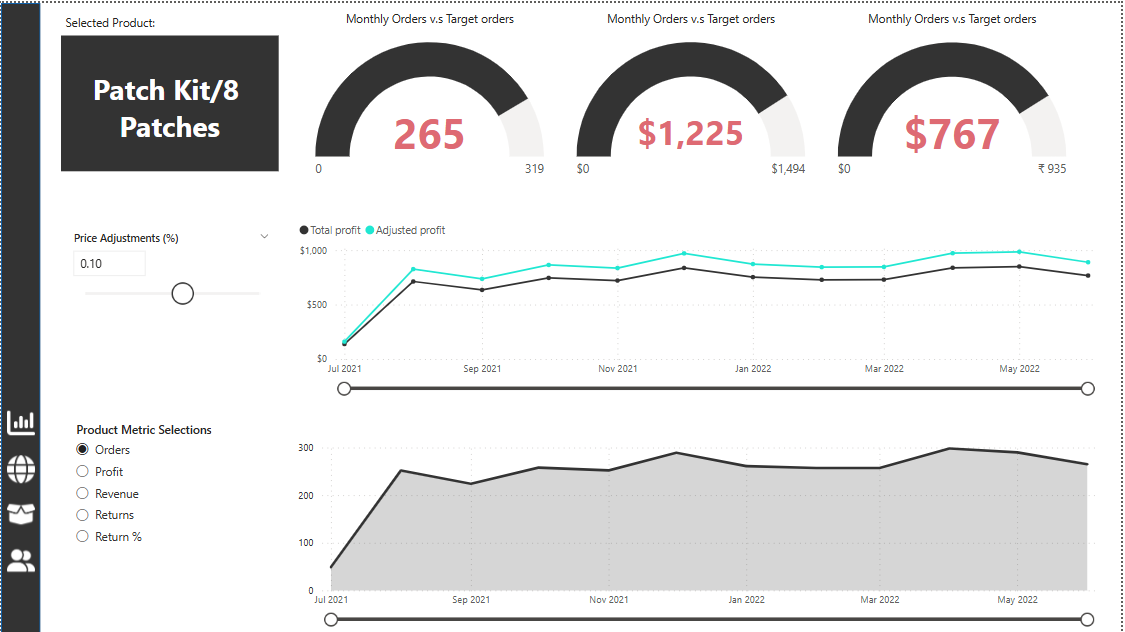

The dashboard page shown, as its layout file describes it:
{"tool":"powerbi","page":{"name":"Product detail","canvas":[1280,720],"ordinal":2},"visuals":[{"type":"shape","box":[0,0,45,720],"z":0},{"type":"gauge","title":"Monthly Orders v.s Target orders","fields":{"Y":["Measure Table.Total Orders"],"MaxValue":["Measure Table.Target orders"]},"box":[354.6,8.4,271.4,213.5],"z":1000},{"type":"gauge","title":"Monthly Orders v.s Target orders","fields":{"Y":["Measure Table.Total Revenue"],"MaxValue":["Measure Table.Target revenue"]},"box":[652.9,8.4,271.4,213.5],"z":2000},{"type":"gauge","title":"Monthly Orders v.s Target orders","fields":{"Y":["Measure Table.Total profit"],"MaxValue":["Measure Table.Profit Target"]},"box":[951.2,8.4,271.2,213.8],"z":3000},{"type":"lineChart","title":"Profit Trending","fields":{"Category":["Calendar Lookup.Date Hierarchy.Start of Year","Calendar Lookup.Date Hierarchy.Start of Month","Calendar Lookup.Date Hierarchy.Date"],"Y":["Measure Table.Total profit","Measure Table.Adjusted profit"]},"box":[335.3,240,935.9,211.1],"z":4000},{"type":"areaChart","title":"Returns Trending","fields":{"Y":["Measure Table.Total Orders"],"Category":["Calendar Lookup.Date Hierarchy.Start of Year","Calendar Lookup.Date Hierarchy.Start of Month","Calendar Lookup.Date Hierarchy.Date"]},"box":[335,493.8,936.2,221.2],"z":5000},{"type":"card","fields":{"Values":["Min(Product Lookup.ProductName)"]},"box":[68.8,37.5,248.8,155],"z":6000},{"type":"textbox","box":[68.8,8.8,125,42.5],"z":7000},{"type":"actionButton","box":[2.8,459.9,45,40],"z":8000},{"type":"actionButton","box":[2.8,564.9,45,40],"z":9000},{"type":"actionButton","box":[2.8,512.4,45,40],"z":10000},{"type":"actionButton","box":[2.8,617.4,45,40],"z":11000},{"type":"slicer","fields":{"Values":["Price Adjustments (%) .Price Adjustments (%) "]},"box":[69.9,240,248.4,144.7],"z":12000},{"type":"slicer","fields":{"Values":["Product Metric Selections.Product Metric Selections"]},"box":[69.9,463.1,248.4,201.4],"z":13000}]}

Visuals, with their boxes on the page's 1280x720 design canvas (x1, y1, x2, y2). These are canvas units, not pixel positions in the 1125x632 screenshot, which may show the page scaled, cropped or inside an application window:
shape: x1=0 y1=0 x2=45 y2=720
"Monthly Orders v.s Target orders" gauge: x1=355 y1=8 x2=626 y2=222
"Monthly Orders v.s Target orders" gauge: x1=653 y1=8 x2=924 y2=222
"Monthly Orders v.s Target orders" gauge: x1=951 y1=8 x2=1222 y2=222
"Profit Trending" lineChart: x1=335 y1=240 x2=1271 y2=451
"Returns Trending" areaChart: x1=335 y1=494 x2=1271 y2=715
card - Min(Product Lookup.ProductName): x1=69 y1=38 x2=318 y2=192
textbox: x1=69 y1=9 x2=194 y2=51
actionButton: x1=3 y1=460 x2=48 y2=500
actionButton: x1=3 y1=565 x2=48 y2=605
actionButton: x1=3 y1=512 x2=48 y2=552
actionButton: x1=3 y1=617 x2=48 y2=657
slicer - Price Adjustments (%) .Price Adjustments (%) : x1=70 y1=240 x2=318 y2=385
slicer - Product Metric Selections.Product Metric Selections: x1=70 y1=463 x2=318 y2=664
